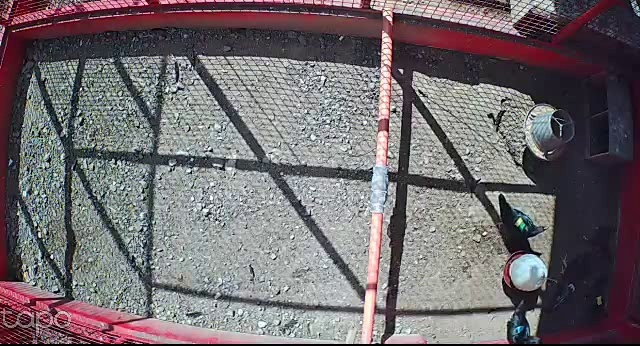Chicken: (492, 191, 551, 241), (503, 298, 553, 346), (580, 273, 618, 323), (582, 220, 621, 266)
Drinker: (501, 251, 550, 294)
Feeder: (522, 104, 577, 161)
Rooster: (547, 252, 594, 315)
Saddle_Color_Yellow: (596, 295, 604, 305)
Saddle_Color_YellowGreen: (513, 217, 527, 231)
